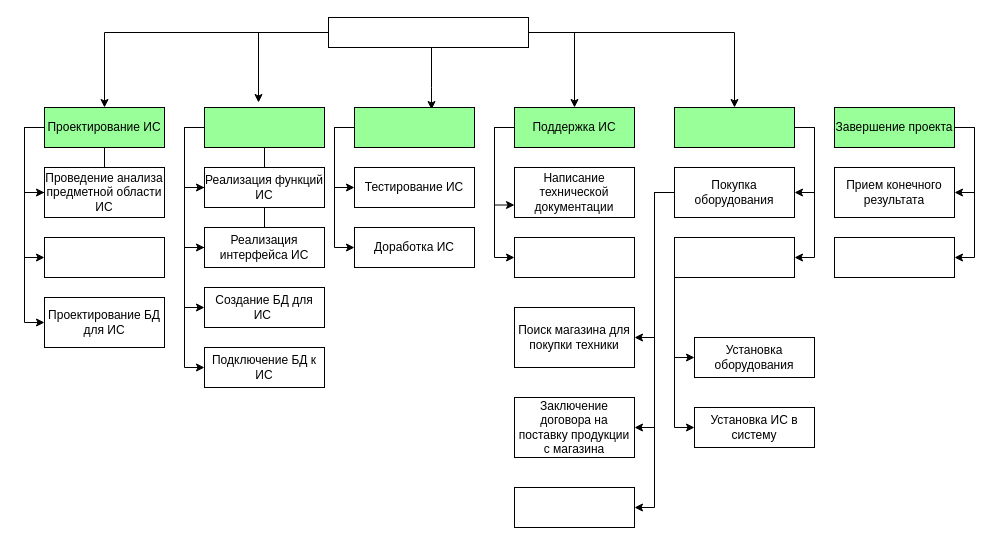
This 1000x545 diagram has some shape labels left out. Here are the shapes that lost their labels. From the top down, the centre of each, then its label:
point 428,32: Разработка ИС для пиццерии "Люкс"
point 264,127: Реализация ИС
point 414,127: Тест и доработка ИС
point 734,127: Внедрение системы
point 104,257: Создание макета ИС
point 574,257: Обучение персонала работе с ИС
point 734,257: Внедрение ИС в систему заказчика
point 894,257: Подписание акта
point 574,507: Принятие заказной продукции
